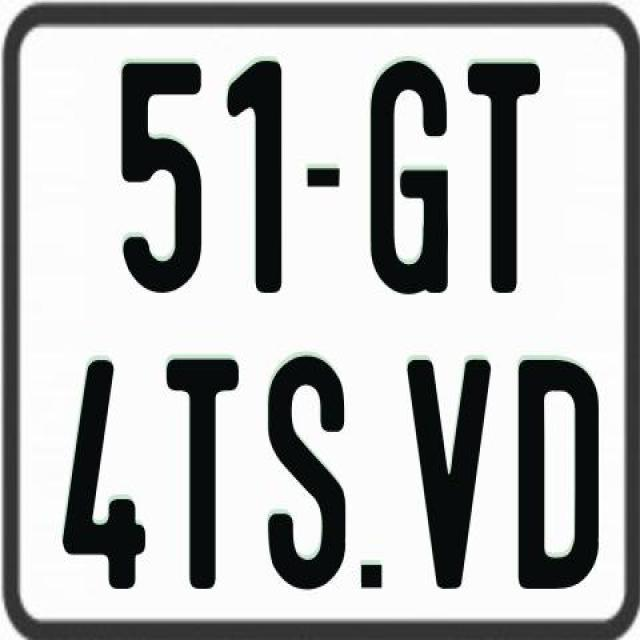1: (222, 56, 280, 296)
4: (58, 358, 148, 597)
5: (119, 58, 204, 292)
D: (514, 357, 602, 587)
G: (366, 60, 444, 298)
S: (268, 356, 348, 590)
T: (467, 59, 545, 294), (164, 358, 240, 596)
V: (402, 355, 490, 586)
